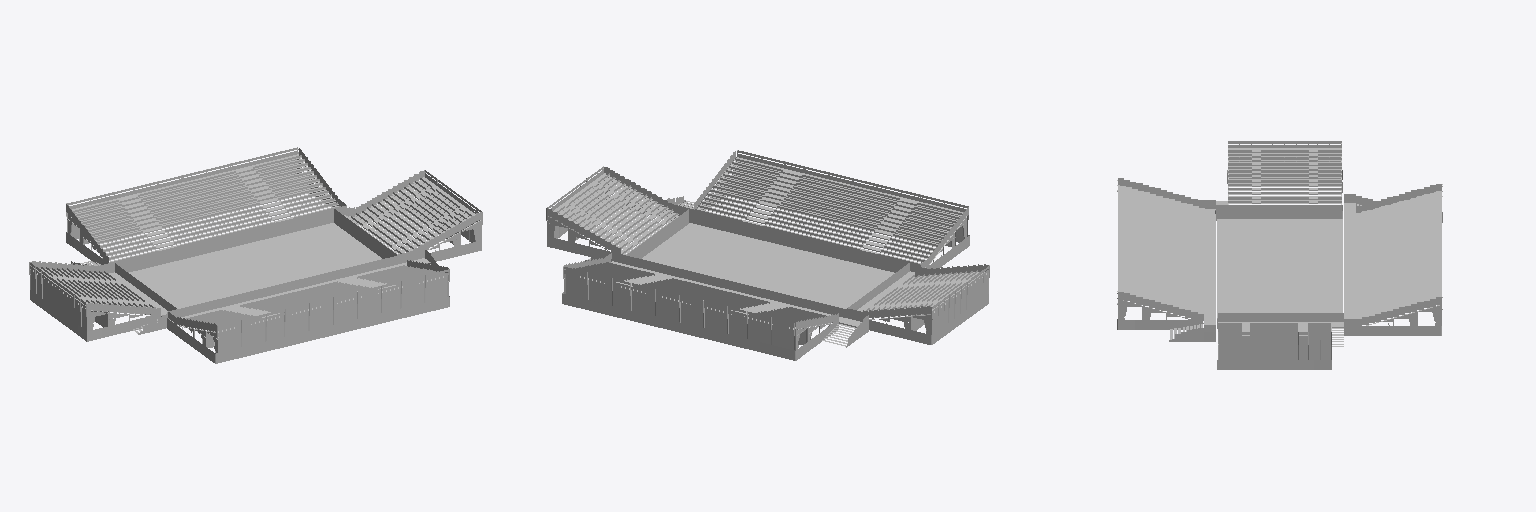
File: fullscene.obj
3 renders of one model, left to right at view 1: azimuth 30°, elevation 25°; view 2: azimuth 150°, elevation 25°; view 3: azimuth 270°, elevation 25°, orthographic.
Visible parts, largest first — view 1: Tribuna_Est, Tribuna_Ovest, Campo, Curva_Sud, Curva_Nord; view 2: Tribuna_Ovest, Tribuna_Est, Campo, Curva_Sud, Curva_Nord; view 3: Tribuna_Ovest, Tribuna_Est, Campo, Curva_Nord, Curva_Sud.
Part boxes in pixels (bbox=[...]): Tribuna_Est: bbox=[66, 147, 348, 272]; Tribuna_Ovest: bbox=[167, 249, 449, 363]; Campo: bbox=[129, 223, 381, 308]; Curva_Sud: bbox=[334, 170, 482, 261]; Curva_Nord: bbox=[29, 261, 177, 341]; Tribuna_Ovest: bbox=[667, 150, 969, 272]; Tribuna_Est: bbox=[562, 252, 868, 360]; Campo: bbox=[642, 223, 894, 308]; Curva_Sud: bbox=[546, 166, 688, 263]; Curva_Nord: bbox=[847, 263, 989, 344]; Tribuna_Ovest: bbox=[1117, 178, 1215, 341]; Tribuna_Est: bbox=[1344, 184, 1442, 335]; Campo: bbox=[1217, 219, 1342, 317]; Curva_Nord: bbox=[1215, 141, 1342, 220]; Curva_Sud: bbox=[1217, 313, 1343, 369].
Size of the model in its own units: 71.66 by 6.7 by 51.69.